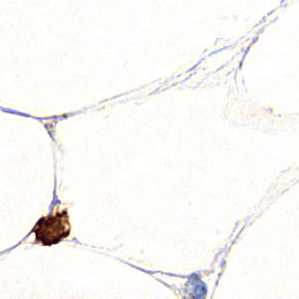Lymphocyte: (33, 214, 72, 247)
